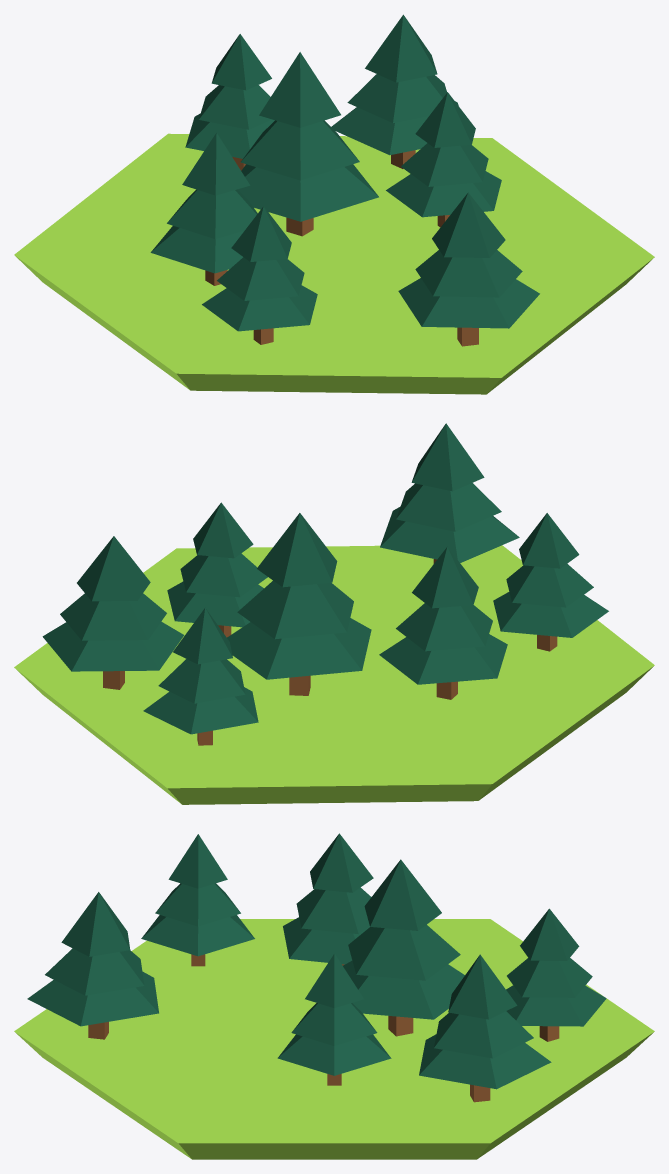
The model's file is G_F_Pine.fbx.
3 views of the same model, one above another, from view 1: azimuth 30°, elevation 25°; view 2: azimuth 150°, elevation 25°; view 3: azimuth 270°, elevation 25° (orthographic). The views are drawn at different scales.
Visible parts, largest first — view 1: G_F_Pine; view 2: G_F_Pine; view 3: G_F_Pine.
Part boxes in pixels (x1,y1,x2,y2): G_F_Pine: (14,14,654,394); G_F_Pine: (14,423,654,804); G_F_Pine: (14,833,654,1159).
Size of the model in its own units: 3165 by 1305 by 3822.
